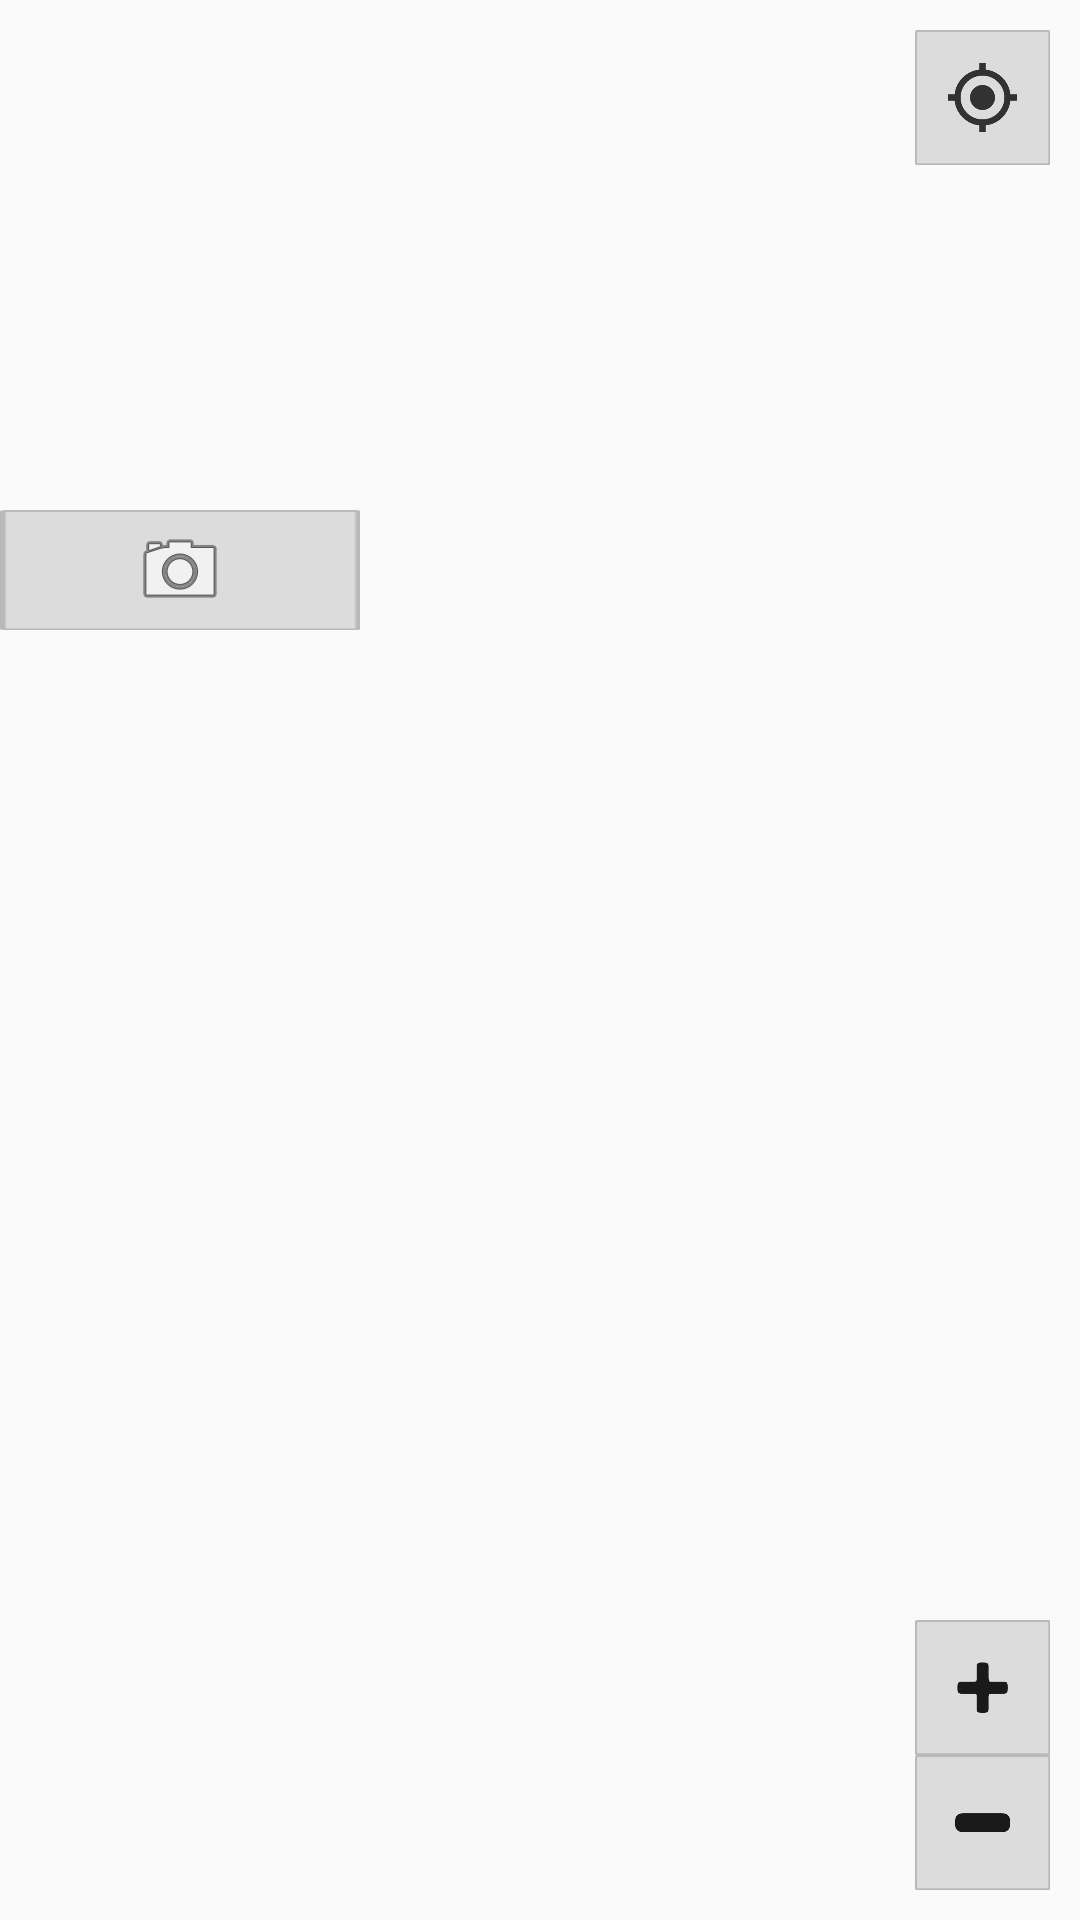

Icon bounding boxes for this 1080×1920 phone screenshot, format (x1, y1, x2, y2):
camera: (0, 510, 360, 630)
location: (915, 30, 1050, 165)
zoom in: (915, 1620, 1050, 1755)
zoom out: (915, 1755, 1050, 1890)
